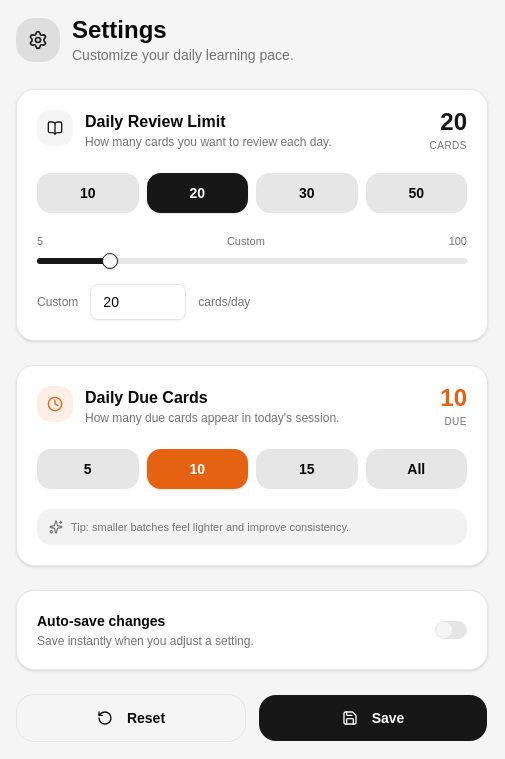
Scenario: SettingsPage › due cards limit › clicking the All preset shows ∞
Expected: the heading "Settings" is shown, [72,16,167,43]
Click the button "All" at (416, 468), box [366,448,467,488]
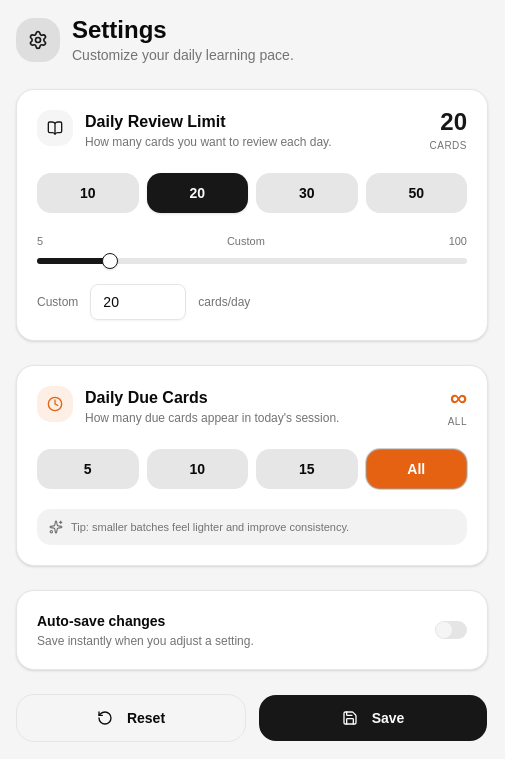
Expected: the text "∞" is shown, [448,386,467,410]
